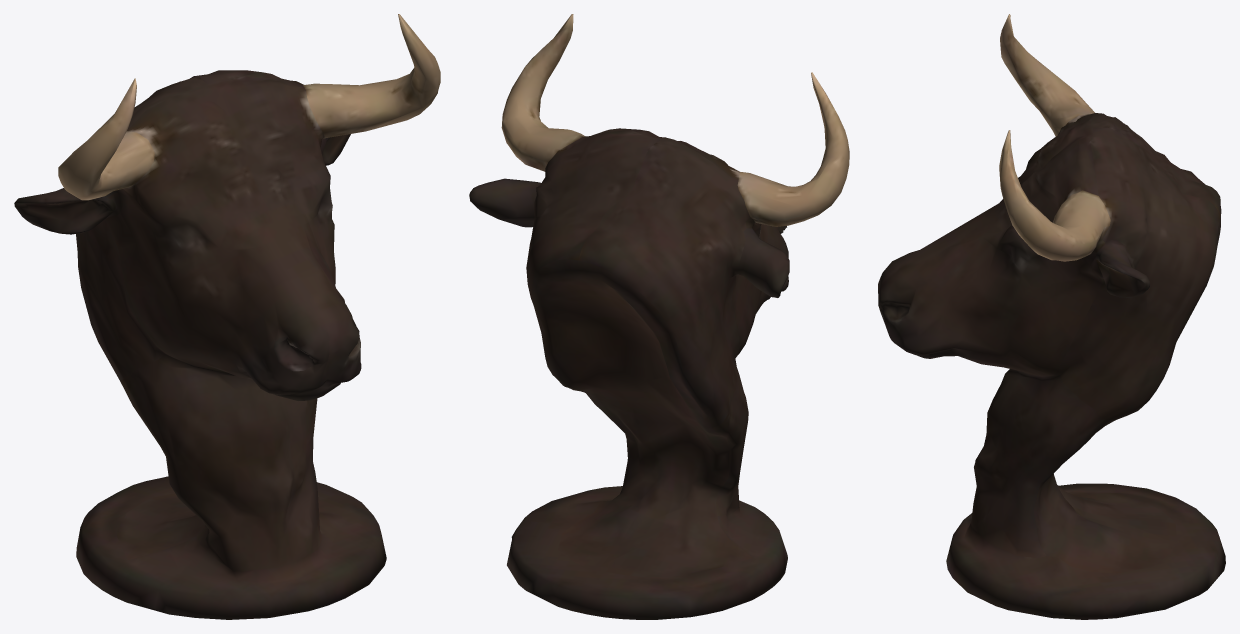
Rendered from bull_head.glb.
3 renders of one model, left to right at view 1: azimuth 30°, elevation 25°; view 2: azimuth 150°, elevation 25°; view 3: azimuth 270°, elevation 25°, orthographic. The views are drawn at different scales.
Parts seen in each view (by area): view 1: bull_head; view 2: bull_head; view 3: bull_head.
Boxes of the visible parts, <box> form: bull_head: <box>14,14,440,619</box>; bull_head: <box>469,14,849,619</box>; bull_head: <box>878,14,1225,619</box>.
Size of the model in its own units: 0.3062 by 0.4327 by 0.2803.
Materials: 1 (1 with a texture image).
